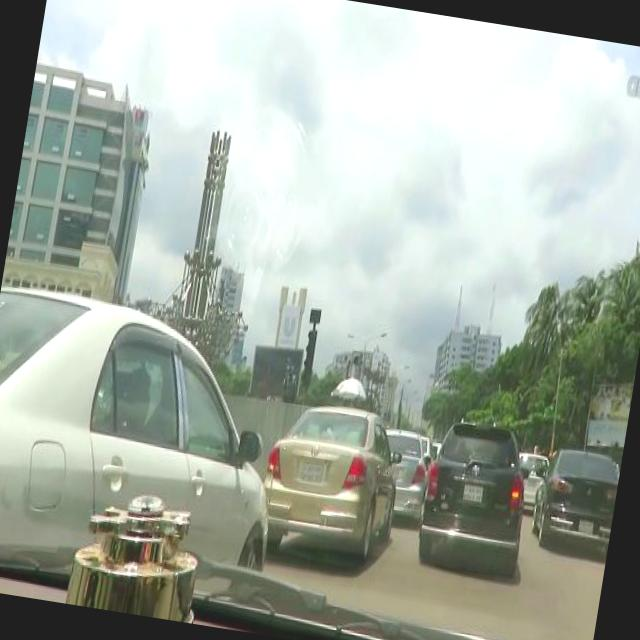car: (253, 396, 411, 568), (414, 409, 541, 575), (526, 440, 623, 563), (374, 427, 436, 525), (511, 451, 550, 513)
